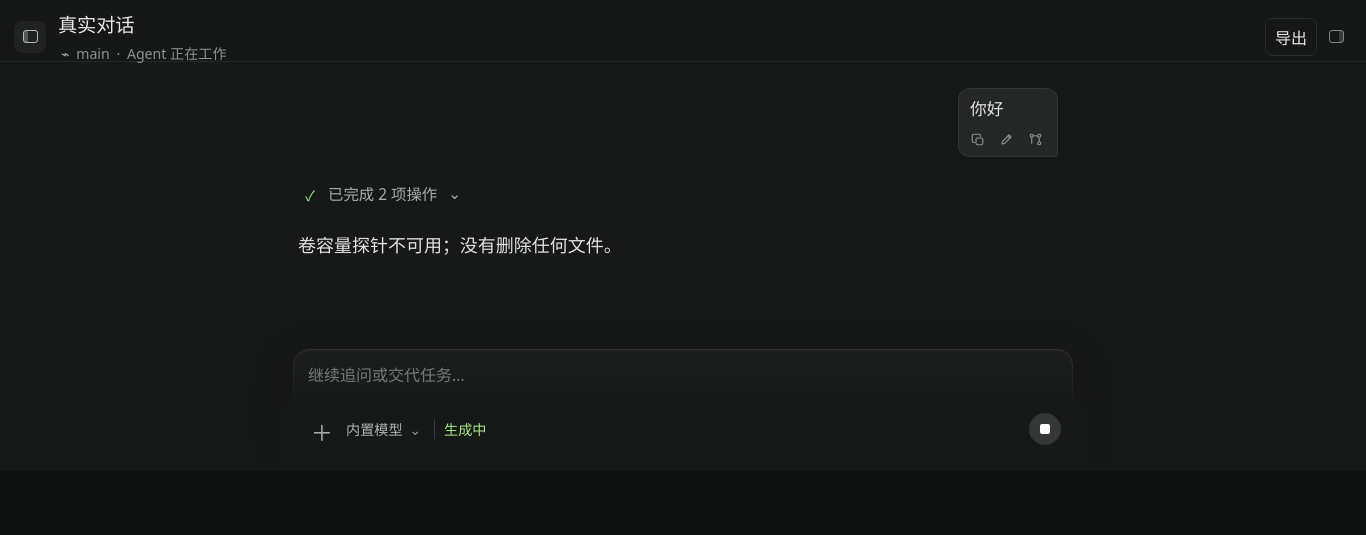
Test: conversation timeline projection › does not render an unavailable volume as zero free space
Step 1. Click the button "✓ 已完成 2 项操作 ⌄" → (384, 194), box [299,177,468,210]
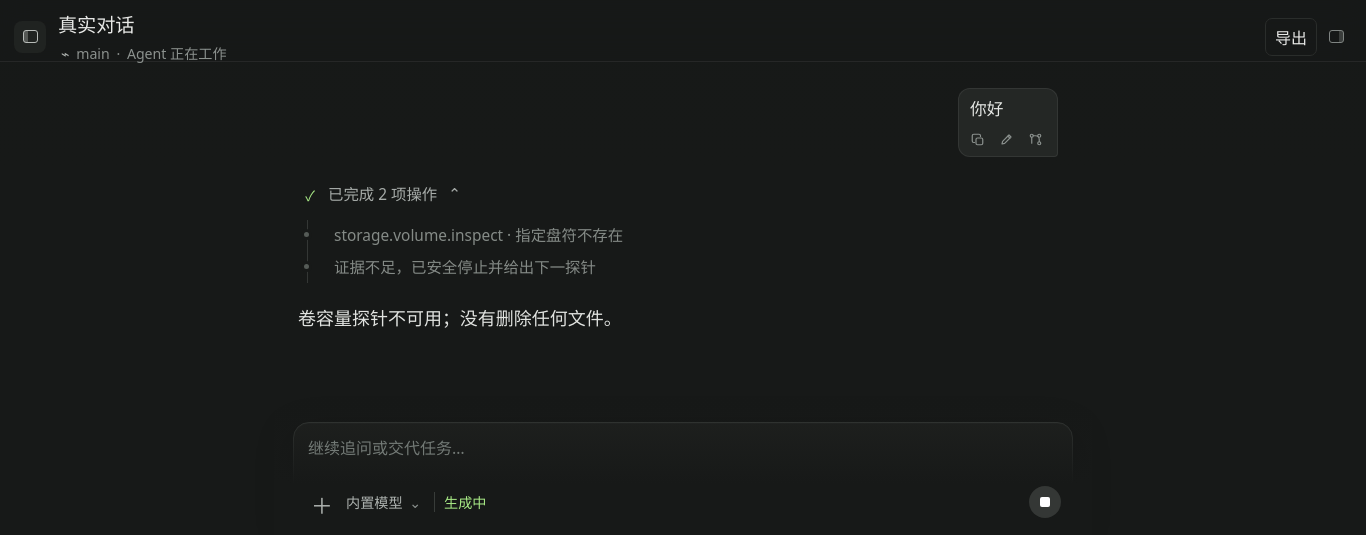
Expected: the text "storage.volume.inspect · 指定盘符不存在" is shown, [334,225,623,246]
